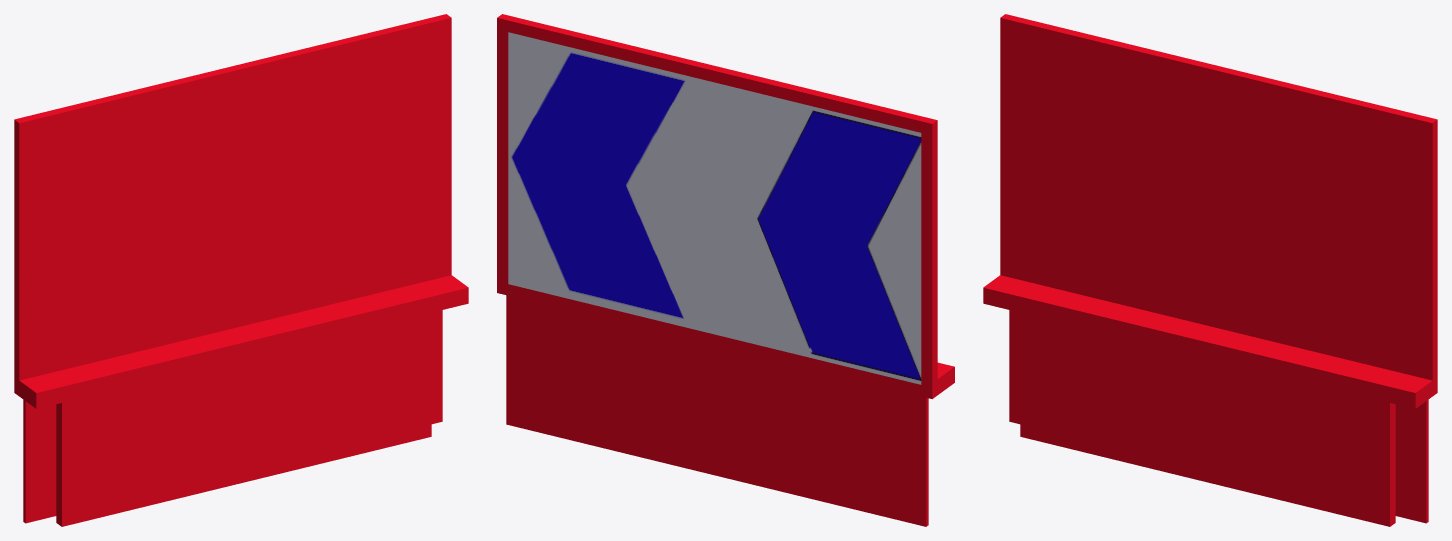
The model's file is arrowboard.fbx.
The picture shows the model from 3 angles, left to right: view 1: azimuth 30°, elevation 25°; view 2: azimuth 150°, elevation 25°; view 3: azimuth 330°, elevation 25°; orthographic projection.
Parts seen in each view (by area): view 1: Cube; view 2: Cube, Cube.001; view 3: Cube.
Part boxes in pixels (box(x1,y1,x2,y2)): Cube: box(14, 14, 468, 526); Cube: box(497, 14, 954, 526); Cube.001: box(497, 18, 932, 398); Cube: box(983, 14, 1437, 526).
Size of the model in its own units: 528 by 470 by 47.13.
1 material, 1 textured.
